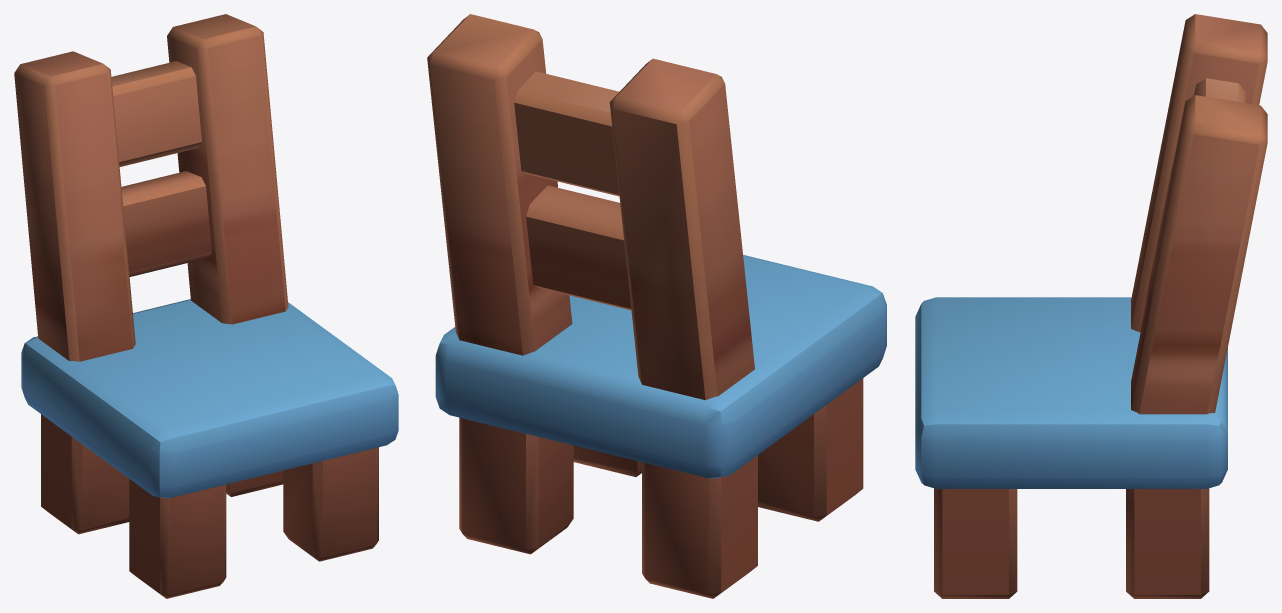
File: fur_chair_A.glb
The picture shows the model from 3 angles, left to right: view 1: azimuth 30°, elevation 25°; view 2: azimuth 150°, elevation 25°; view 3: azimuth 270°, elevation 25°; orthographic projection. The views are drawn at different scales.
Parts seen in each view (by area): view 1: chair_A; view 2: chair_A; view 3: chair_A.
Boxes of the visible parts, x1,y1,x2,y2 form: chair_A: [14, 14, 398, 598]; chair_A: [427, 14, 886, 598]; chair_A: [915, 14, 1267, 598].
Bounding box in the file's own units: 0.75 × 1.26 × 0.8451.
1 material, 1 textured.
